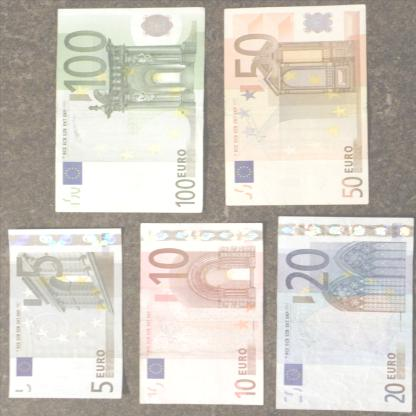euro_banknote: (28, 37, 234, 185), (197, 34, 399, 178), (249, 245, 416, 383), (111, 253, 295, 378)
